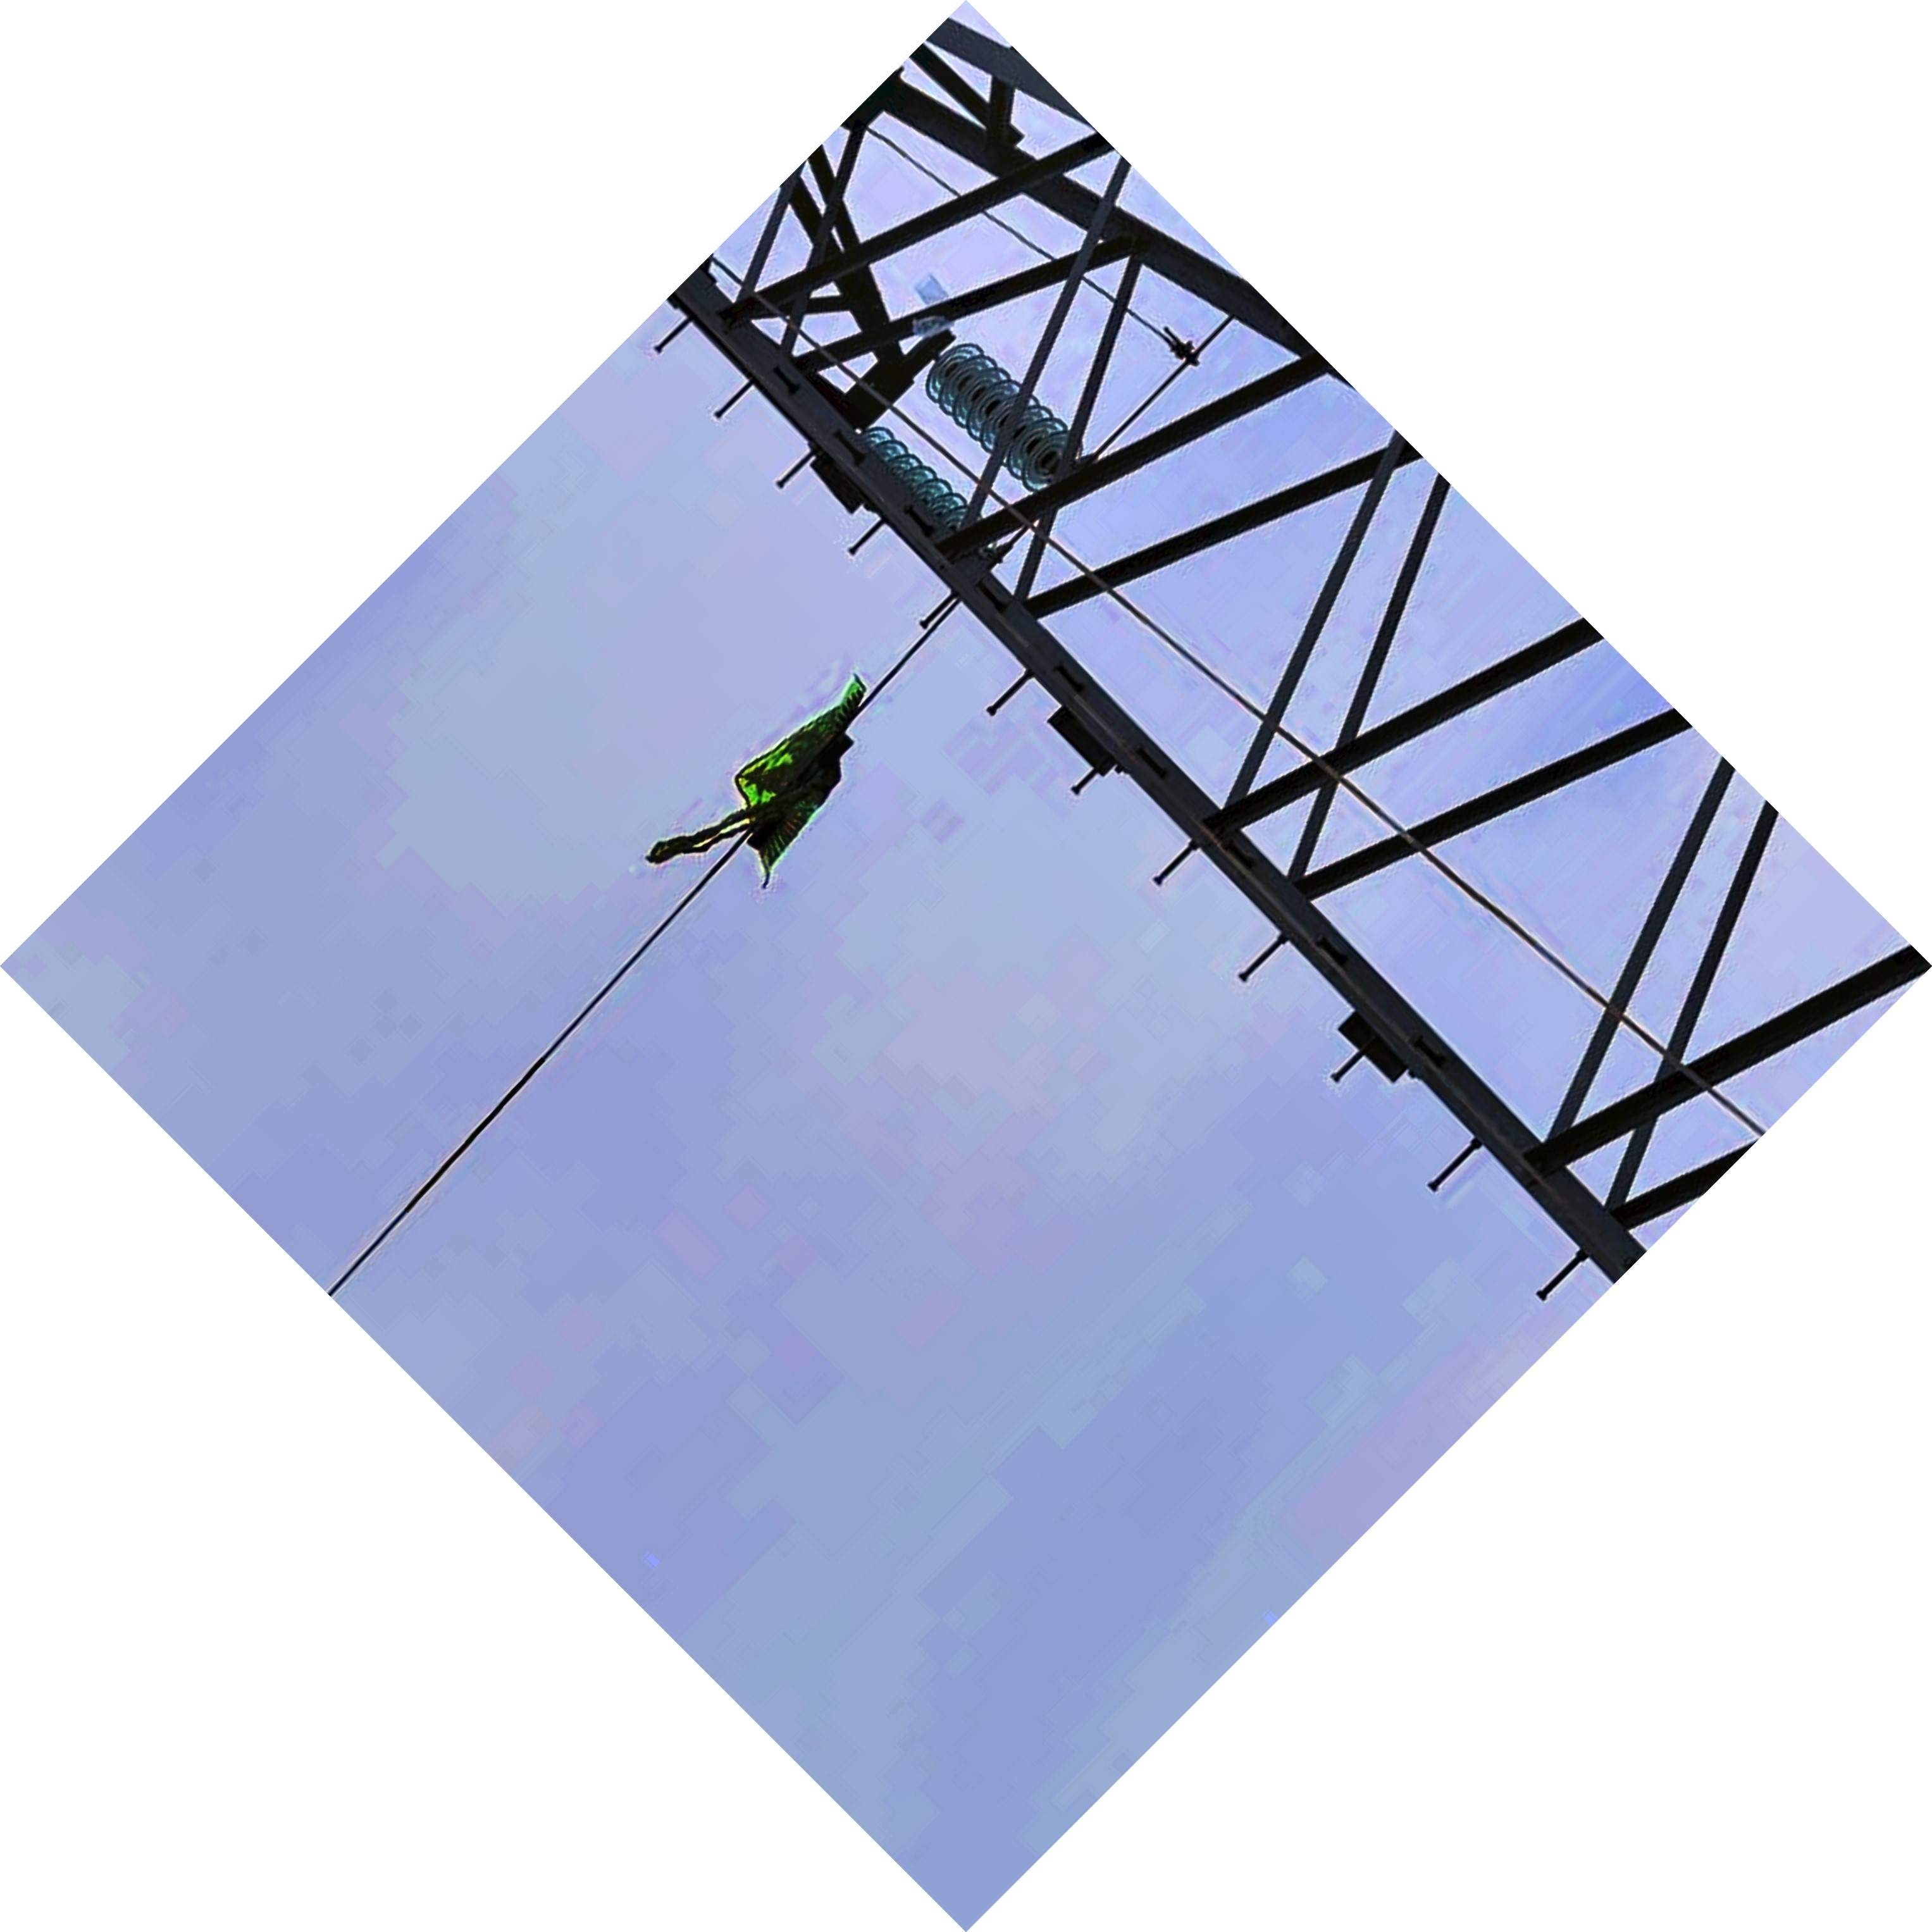wire foreign body: (642, 658, 901, 895)
